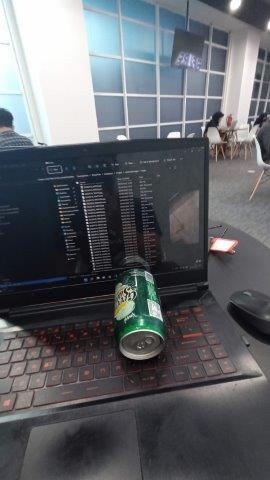kaleng: (114, 268, 165, 359)
